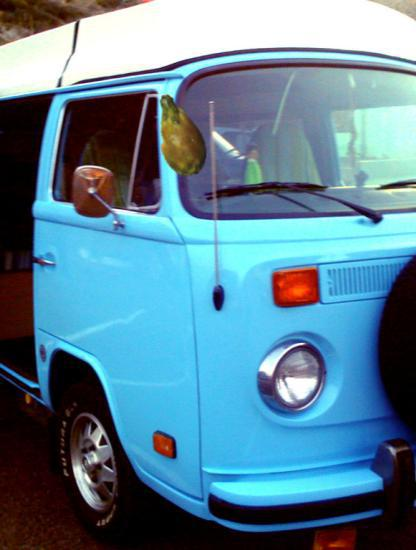Cactus: (138, 92, 223, 177)
